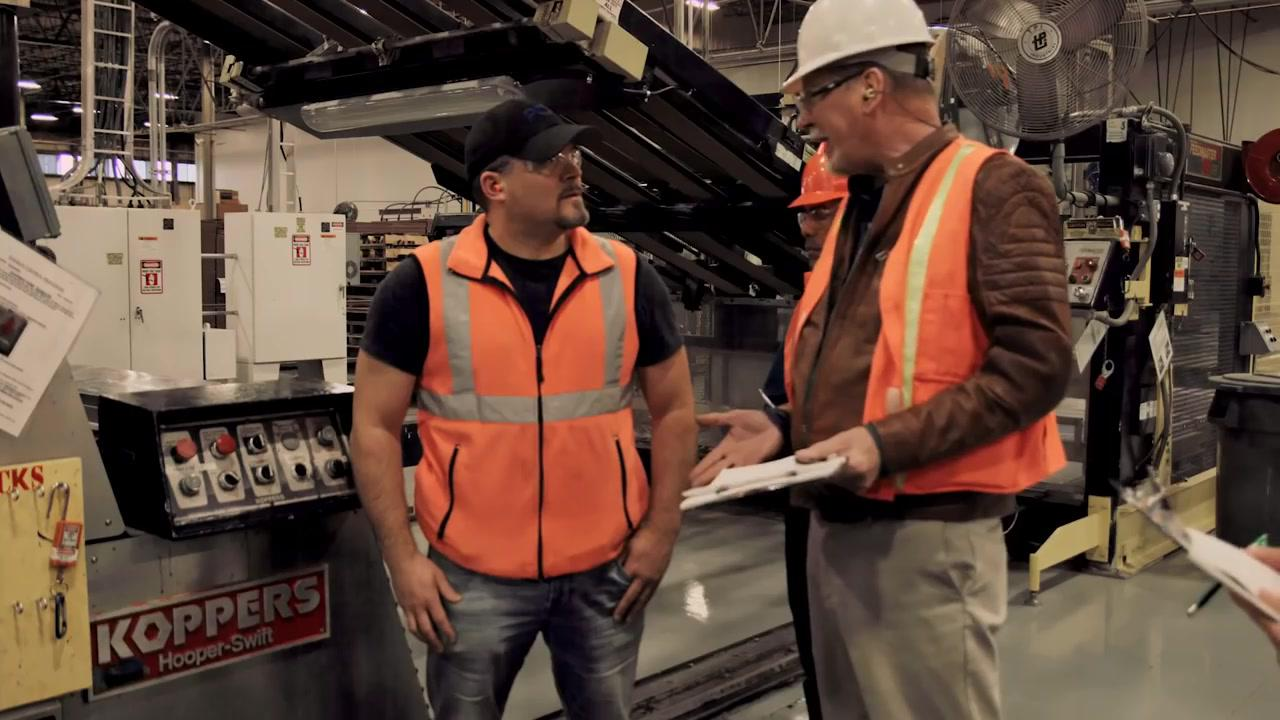Hi-Vis Jacket: (401, 234, 662, 579), (791, 177, 1047, 496)
